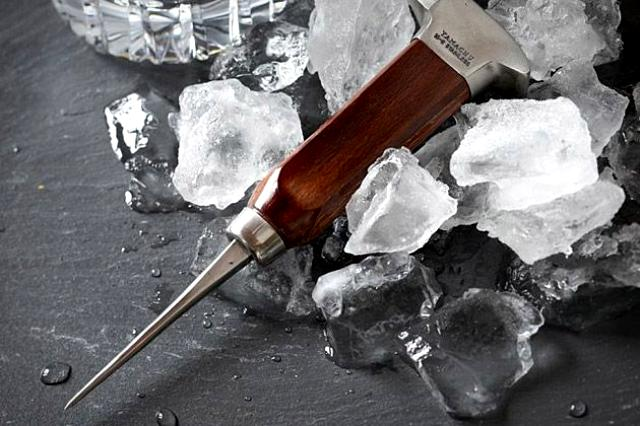ice pick: (64, 1, 530, 410)
